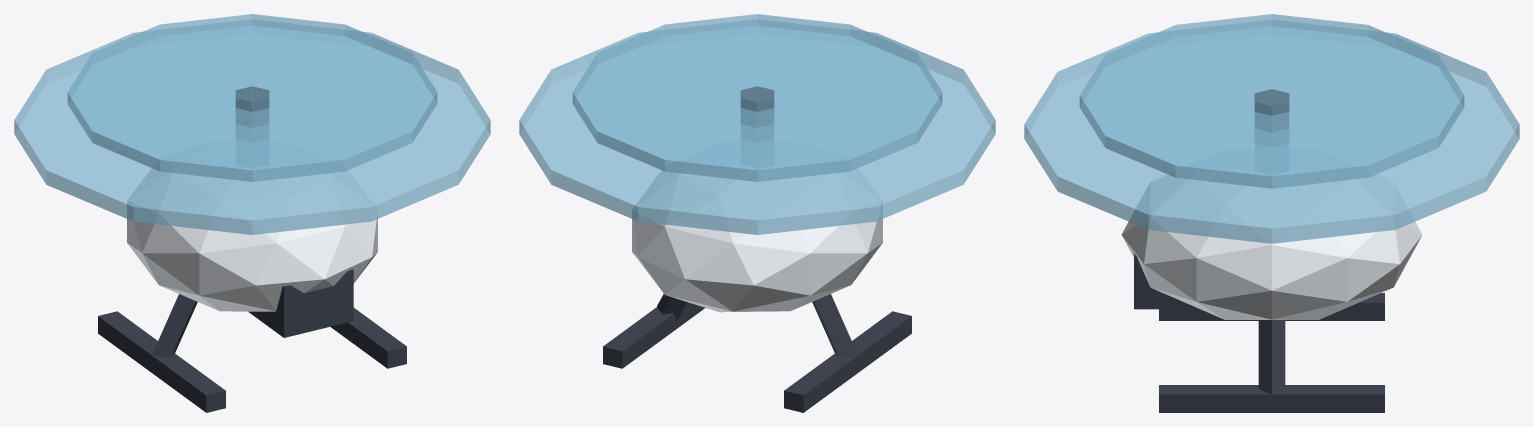
The model's file is drone.fbx.
3 views of the same model, side by side, from view 1: azimuth 30°, elevation 25°; view 2: azimuth 150°, elevation 25°; view 3: azimuth 270°, elevation 25° (orthographic). The views are drawn at different scales.
Parts seen in each view (by area): view 1: SM_drone_MAT_Glass, SM_drone_MAT_HullWhite, SM_drone_MAT_HullDark; view 2: SM_drone_MAT_Glass, SM_drone_MAT_HullWhite, SM_drone_MAT_HullDark; view 3: SM_drone_MAT_Glass, SM_drone_MAT_HullWhite, SM_drone_MAT_HullDark.
Part boxes in pixels (x1,y1,x2,y2): SM_drone_MAT_Glass: (14, 14, 490, 234); SM_drone_MAT_HullWhite: (127, 168, 377, 311); SM_drone_MAT_HullDark: (98, 86, 406, 412); SM_drone_MAT_Glass: (519, 14, 995, 234); SM_drone_MAT_HullWhite: (632, 168, 882, 312); SM_drone_MAT_HullDark: (603, 86, 911, 412); SM_drone_MAT_Glass: (1024, 14, 1519, 243); SM_drone_MAT_HullWhite: (1121, 175, 1422, 319); SM_drone_MAT_HullDark: (1134, 89, 1384, 412).
Bounding box in the file's own units: 0.8288 × 0.4928 × 0.8288.
